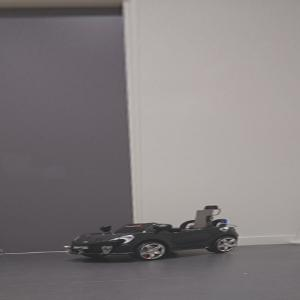big: (62, 218, 242, 264)
